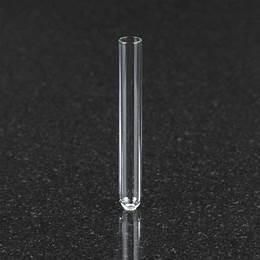Test tube: (112, 20, 153, 226)
